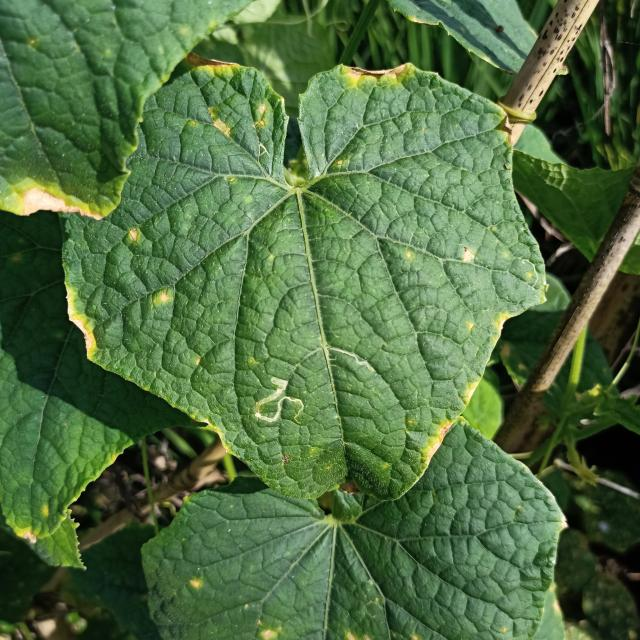disease_cucumber: (188, 49, 270, 136), (463, 307, 511, 338), (154, 291, 171, 308), (460, 246, 476, 264), (128, 226, 140, 243)
